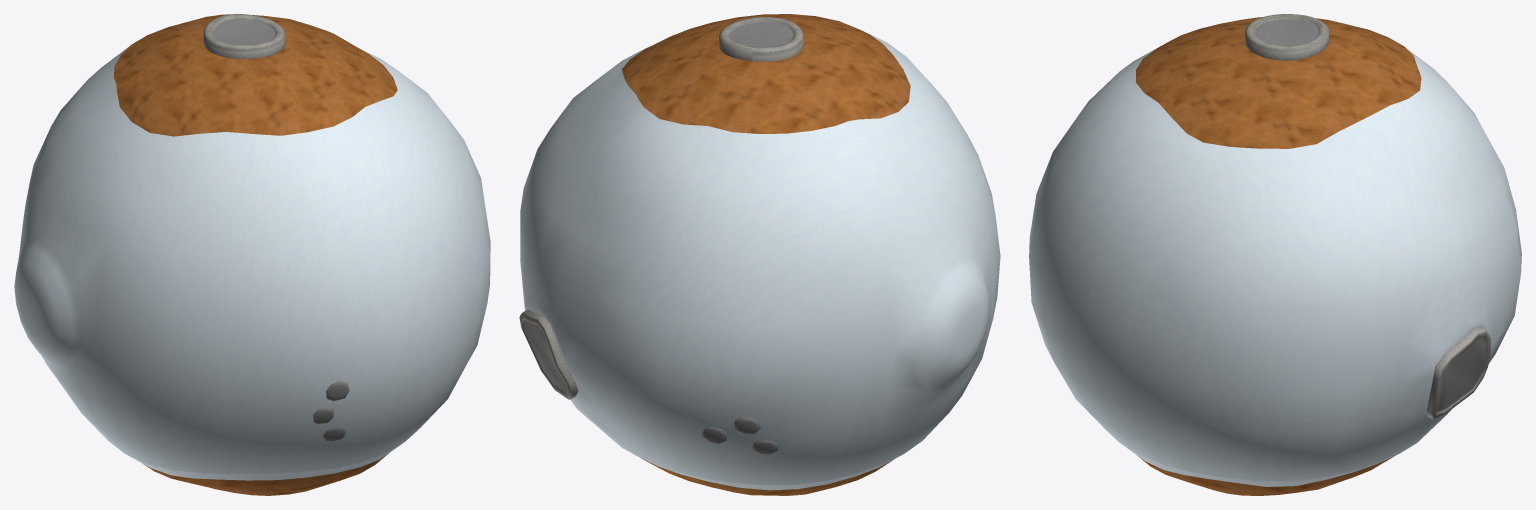
Rendered from SnowBallSpherePlanet.fbx.
3 renders of one model, left to right at view 1: azimuth 30°, elevation 25°; view 2: azimuth 150°, elevation 25°; view 3: azimuth 270°, elevation 25°, orthographic. The views are drawn at different scales.
Parts seen in each view (by area): view 1: Sphere.001; view 2: Sphere.001; view 3: Sphere.001.
Boxes of the visible parts, x1,y1,x2,y2 form: Sphere.001: (14, 14, 490, 495); Sphere.001: (519, 14, 1000, 495); Sphere.001: (1029, 14, 1521, 495).
Bounding box in the file's own units: 333674 × 327107 × 333580.
Materials: 4 (4 with a texture image).
